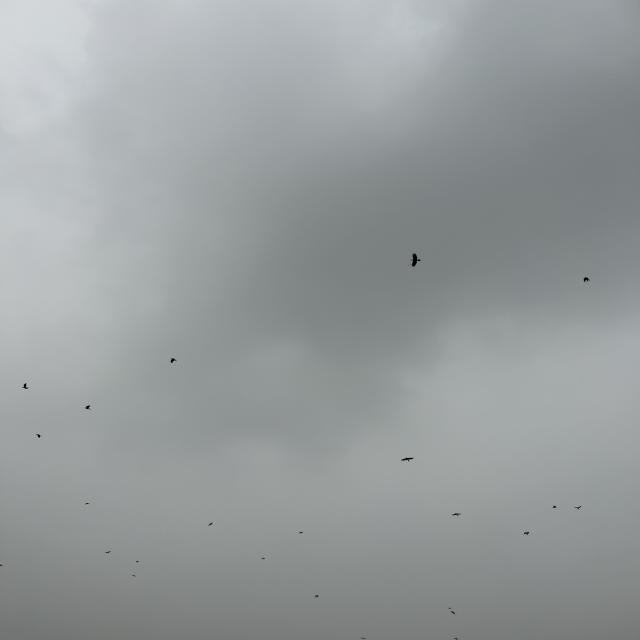bird: (402, 248, 432, 270), (397, 454, 420, 467), (449, 510, 467, 522), (21, 382, 34, 394), (574, 503, 584, 512)
